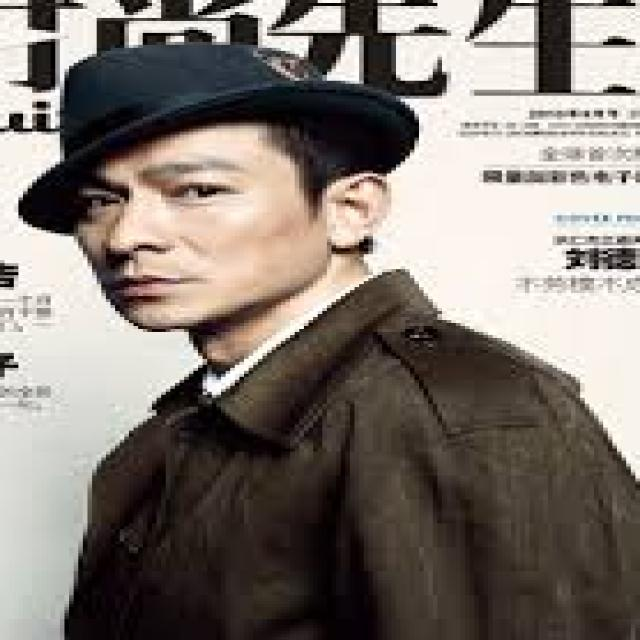organic: (25, 0, 592, 619)
